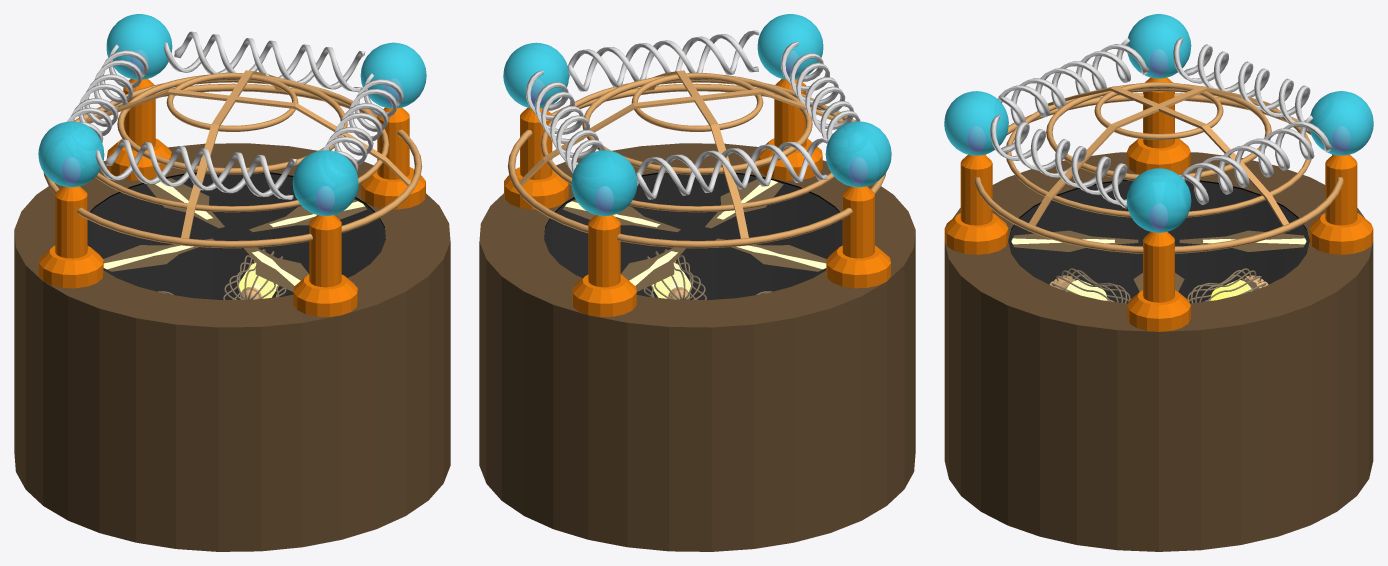
Rendered from Portail.fbx.
3 renders of one model, left to right at view 1: azimuth 30°, elevation 25°; view 2: azimuth 150°, elevation 25°; view 3: azimuth 270°, elevation 25°, orthographic. The views are drawn at different scales.
Parts seen in each view (by area): view 1: portail-rotation, portail-fixe, portail-rotation-spring3, portail-rotation-spring1, portail-rotation-spring2, portail-rotation-spring4, portail-fixe-deco1; view 2: portail-rotation, portail-fixe, portail-rotation-spring4, portail-rotation-spring2, portail-rotation-spring1, portail-rotation-spring3, portail-fixe-deco2; view 3: portail-rotation, portail-fixe, portail-rotation-spring1, portail-rotation-spring2, portail-rotation-spring3, portail-rotation-spring4, portail-fixe-deco3, portail-fixe-deco4.
Boxes of the visible parts, x1,y1,x2,y2 form: portail-rotation: (14, 14, 450, 551); portail-fixe: (43, 70, 422, 299); portail-rotation-spring3: (95, 139, 296, 199); portail-rotation-spring1: (164, 31, 365, 92); portail-rotation-spring2: (322, 73, 403, 172); portail-rotation-spring4: (67, 44, 148, 142); portail-fixe-deco1: (223, 249, 286, 299); portail-rotation: (479, 14, 915, 551); portail-fixe: (507, 70, 886, 299); portail-rotation-spring4: (636, 138, 827, 199); portail-rotation-spring2: (567, 30, 759, 91); portail-rotation-spring1: (525, 70, 605, 173); portail-rotation-spring3: (781, 41, 860, 143); portail-fixe-deco2: (643, 249, 706, 300); portail-rotation: (944, 14, 1373, 551); portail-fixe: (974, 82, 1343, 302); portail-rotation-spring1: (1181, 115, 1332, 204); portail-rotation-spring2: (990, 115, 1127, 208); portail-rotation-spring3: (998, 38, 1149, 126); portail-rotation-spring4: (1173, 37, 1310, 131); portail-fixe-deco3: (1049, 268, 1130, 303); portail-fixe-deco4: (1187, 268, 1268, 303).
Bounding box in the file's own units: 2119 × 1999 × 2119.
